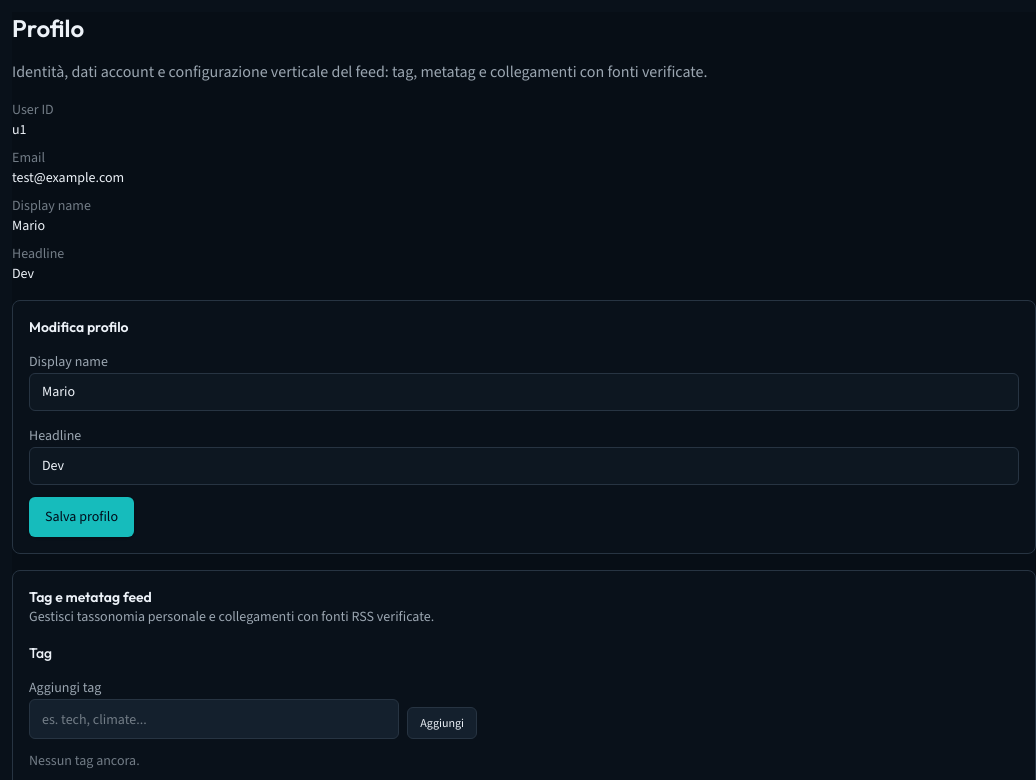
Scenario: ProfilePage › Profile submit fallito: errore gestito e UI non bloccata
The width and height of the screenshot is (1036, 780).
Note: Provo a salvare
Click the button "Salva profilo": (82, 517) 29,497 -> 134,537
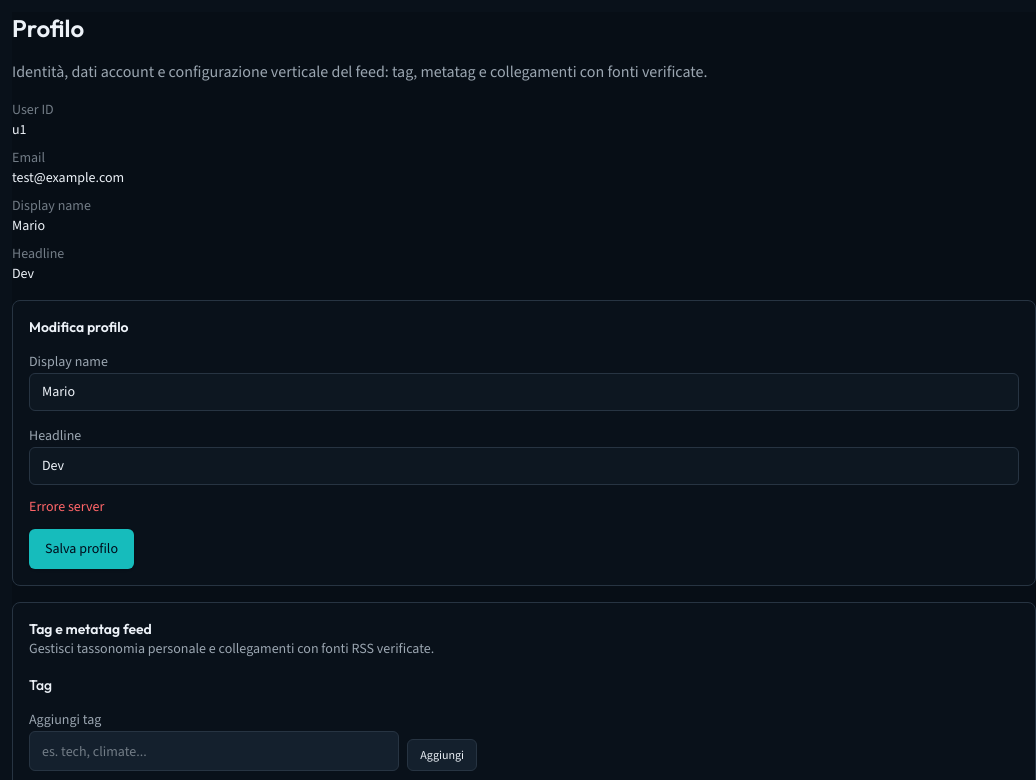
Check: the button "Salva profilo" is enabled, box 29,529 -> 134,569
Check: the message reads "Errore server", box 29,497 -> 104,516
